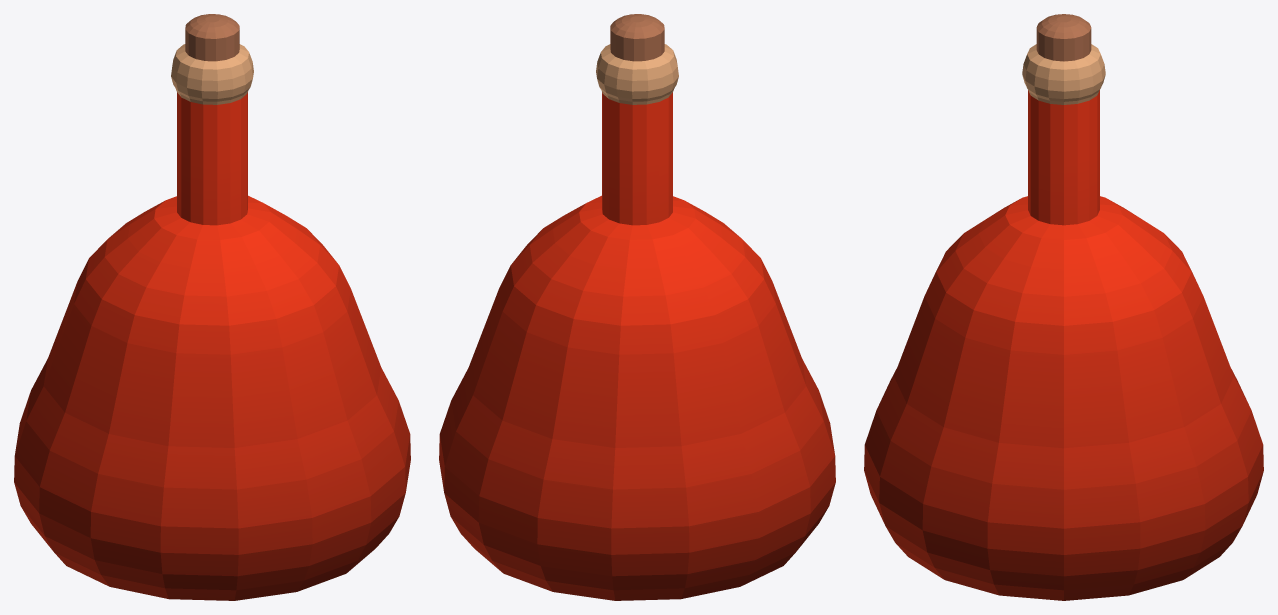
Rendered from big_potion.fbx.
3 views of the same model, side by side, from view 1: azimuth 30°, elevation 25°; view 2: azimuth 150°, elevation 25°; view 3: azimuth 270°, elevation 25° (orthographic).
Parts seen in each view (by area): view 1: big_potion; view 2: big_potion; view 3: big_potion.
Boxes of the visible parts, x1,y1,x2,y2 form: big_potion: [14, 14, 410, 600]; big_potion: [439, 14, 835, 600]; big_potion: [864, 14, 1263, 600].
Bounding box in the file's own units: 17.62 × 26.25 × 17.62.
